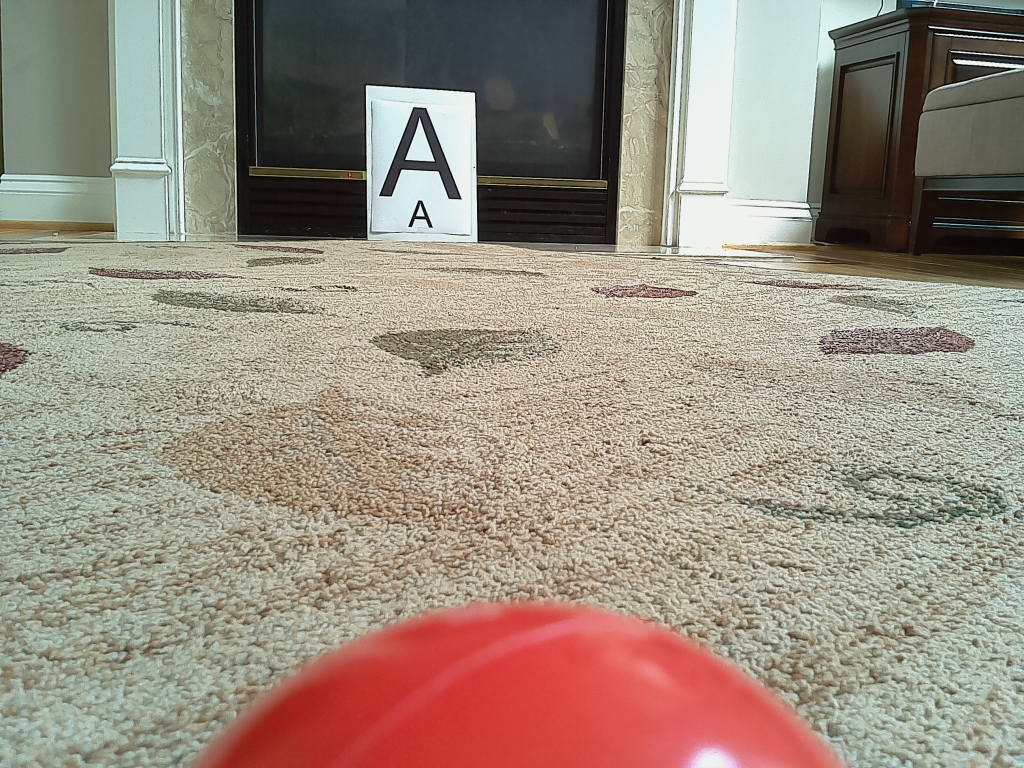letter: (378, 107, 464, 200)
